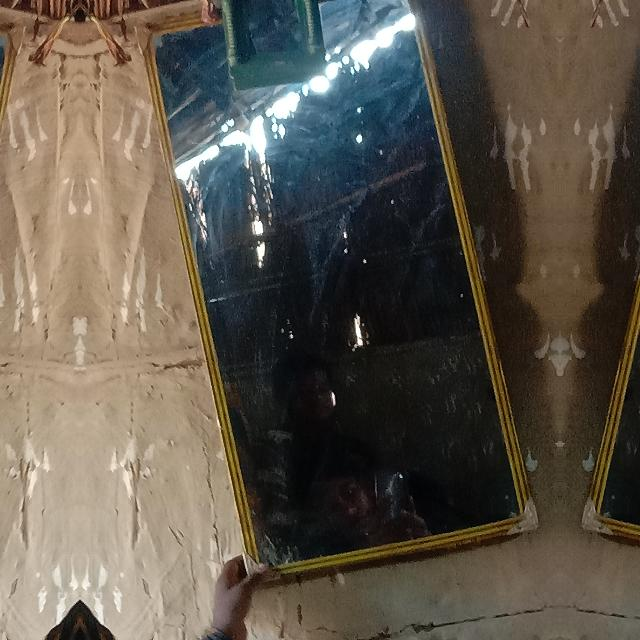phone_screen: (128, 27, 550, 570), (570, 26, 640, 569), (0, 26, 31, 569)
